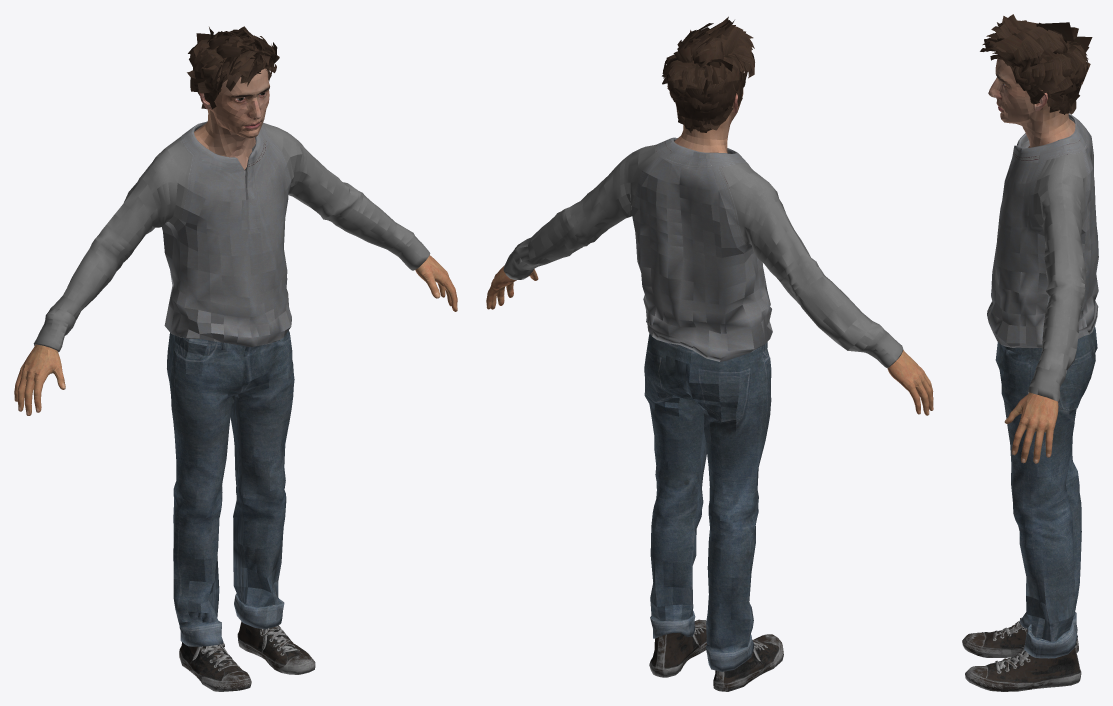
The model's file is daniel.obj.
3 renders of one model, left to right at view 1: azimuth 30°, elevation 25°; view 2: azimuth 150°, elevation 25°; view 3: azimuth 270°, elevation 25°, orthographic.
Parts seen in each view (by area): view 1: young_samuel:polySurface520; view 2: young_samuel:polySurface520; view 3: young_samuel:polySurface520.
Boxes of the visible parts, box(x1,y1,x2,y2) form: young_samuel:polySurface520: box(14, 26, 457, 691); young_samuel:polySurface520: box(486, 16, 933, 691); young_samuel:polySurface520: box(962, 14, 1098, 691).
Size of the model in its own units: 5.26 by 7.37 by 1.41.
Materials: 7 (7 with a texture image).
